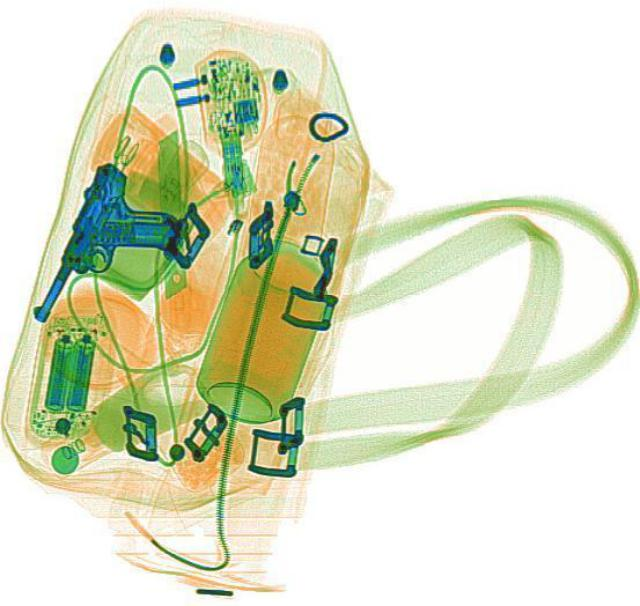Gun: (25, 157, 198, 349)
